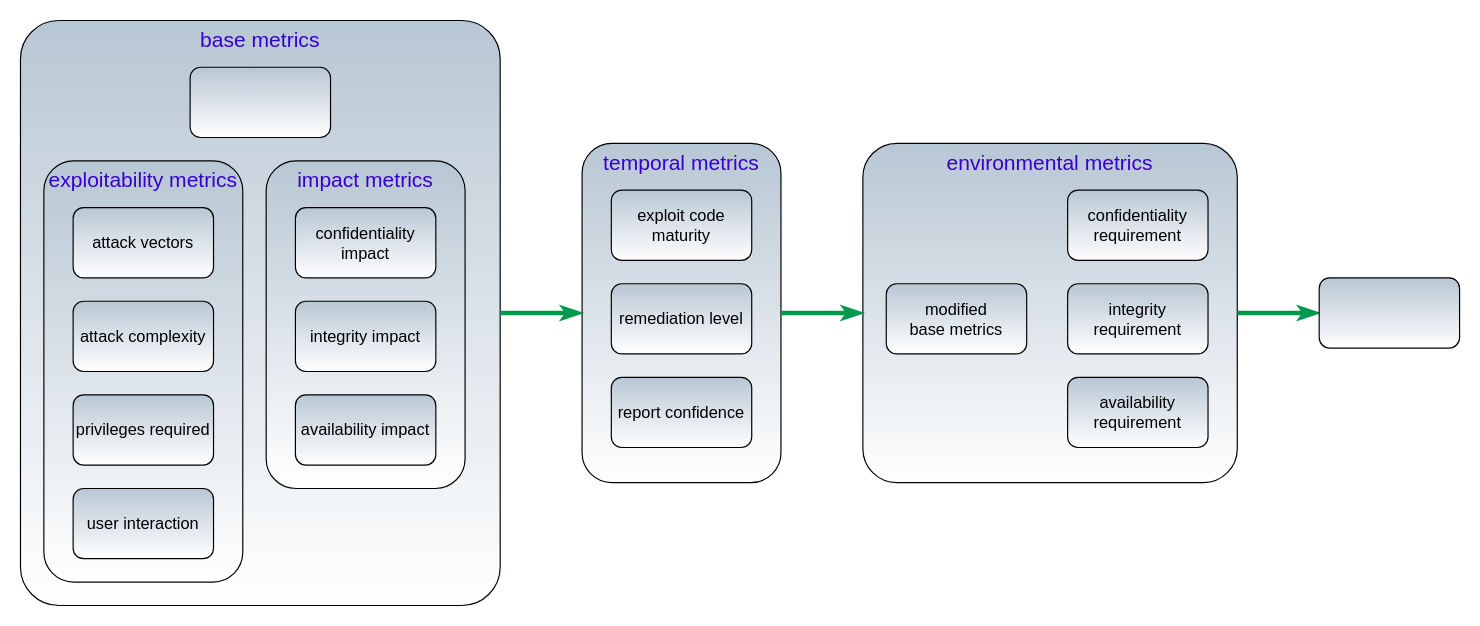
Image size: 1480x626. Some labels were removed from this diagram. Here are the shapes that lost their labels. From the top down, the centre of each, then its label:
At (x=260, y=101): "scope".
At (x=1389, y=312): "CVSS score".
